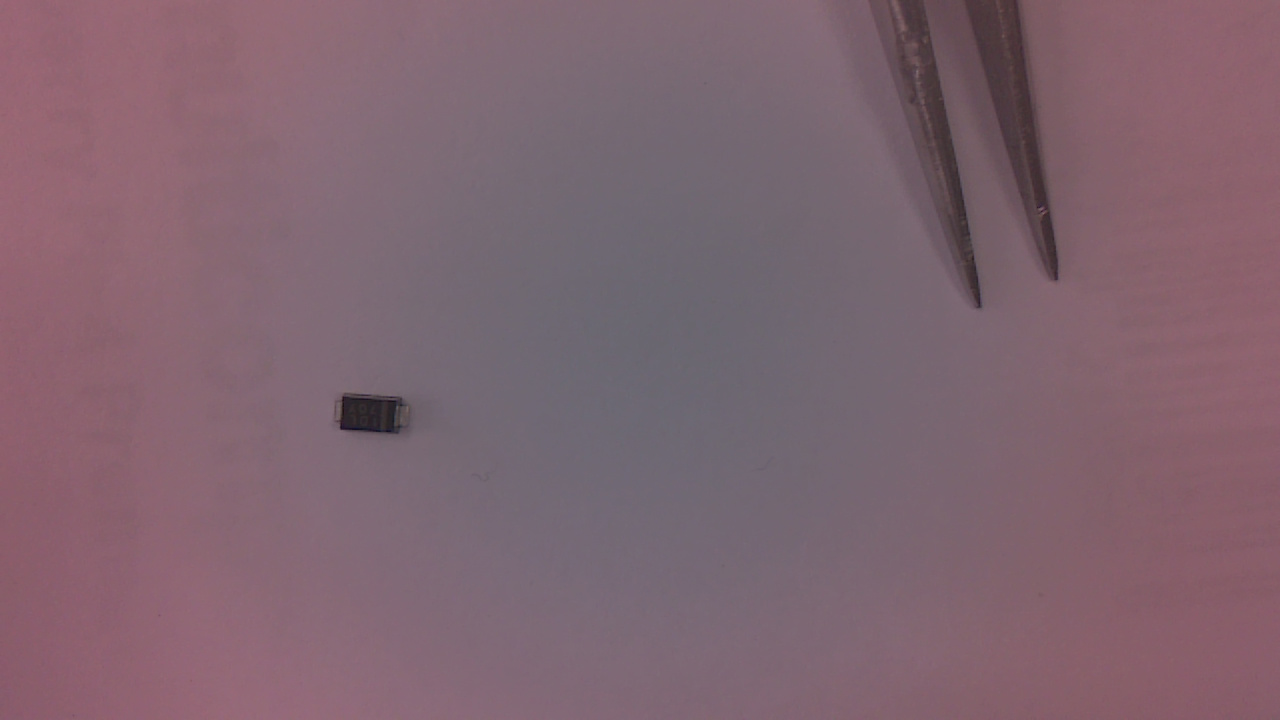Diode: (323, 400, 412, 444)
